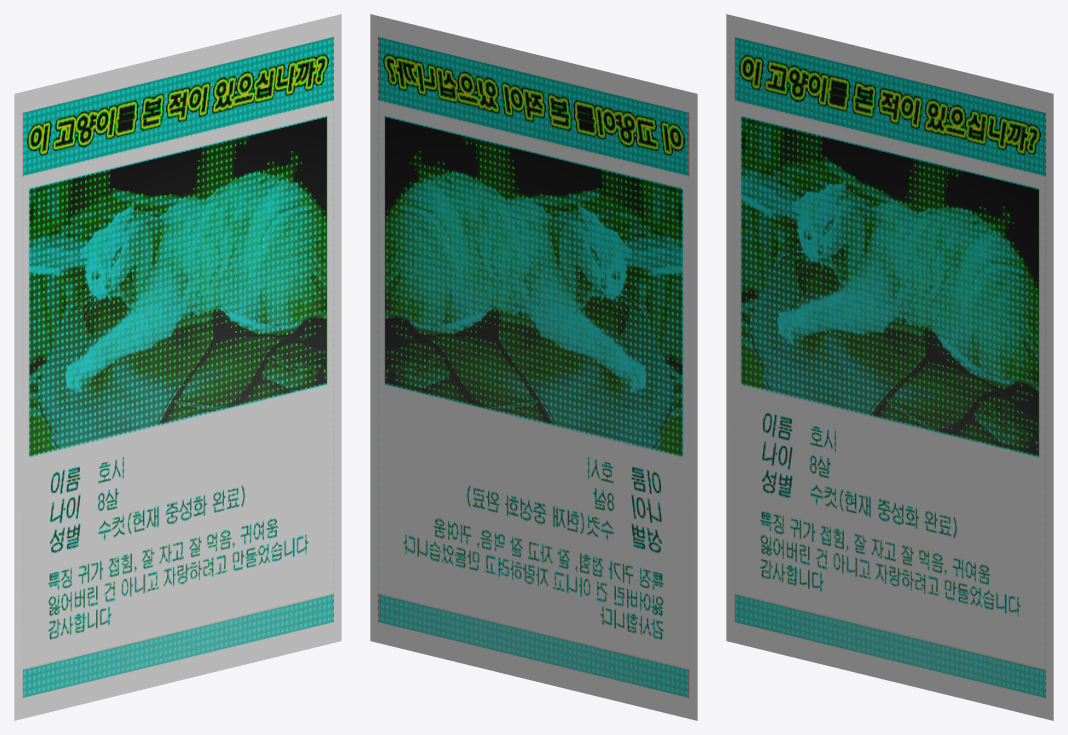
File: F_02_01_03_01_poster.fbx
The picture shows the model from 3 angles, left to right: view 1: azimuth 30°, elevation 25°; view 2: azimuth 150°, elevation 25°; view 3: azimuth 330°, elevation 25°; orthographic projection.
Visible parts, largest first — view 1: Plane150; view 2: Plane150; view 3: Plane150.
Boxes of the visible parts, bbox=[...] form: Plane150: bbox=[14, 14, 341, 720]; Plane150: bbox=[370, 14, 697, 720]; Plane150: bbox=[726, 14, 1053, 720].
Bounding box in the file's own units: 133 × 242 × 1.06e-05.
Materials: 1 (1 with a texture image).
